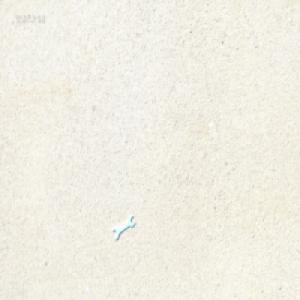Wrench: (112, 215, 134, 242)
